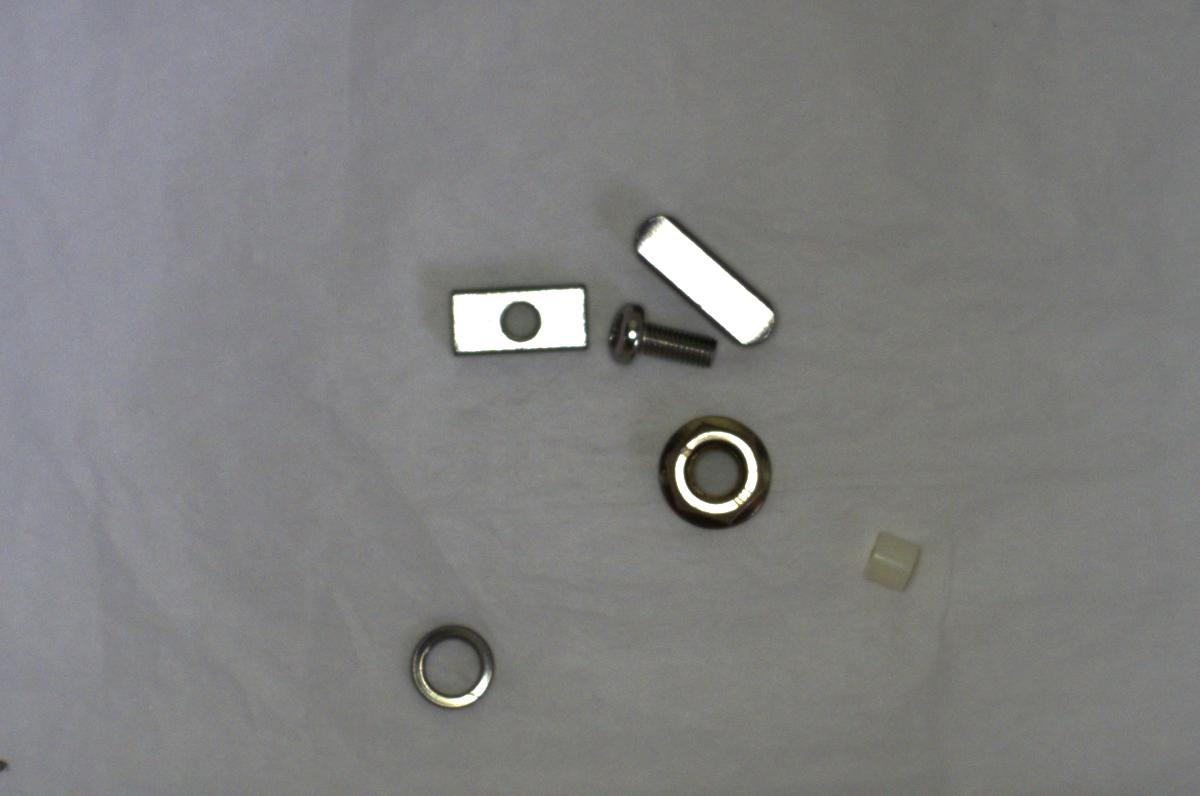Flange nut: (646, 407, 777, 532)
Keybar: (628, 213, 790, 354)
Plastic cushion pillar: (858, 520, 927, 596)
Rectangular nut: (437, 276, 595, 363)
Round head screw: (600, 299, 718, 375)
Spring washer: (405, 621, 500, 709)
